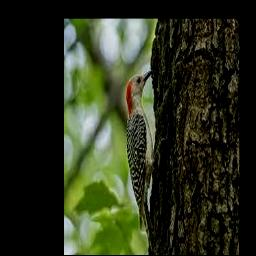Woodpecker: (126, 69, 167, 247)
